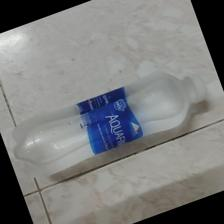Aquafina: (12, 71, 208, 177)
